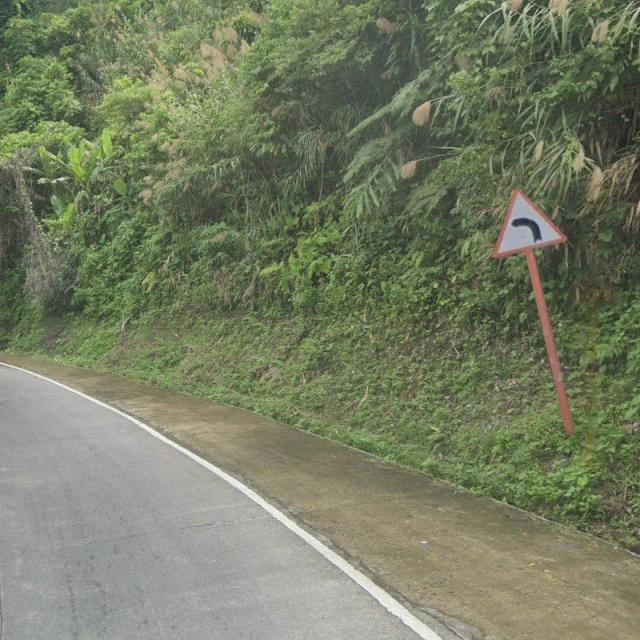warn_left_curve: (493, 188, 569, 258)
